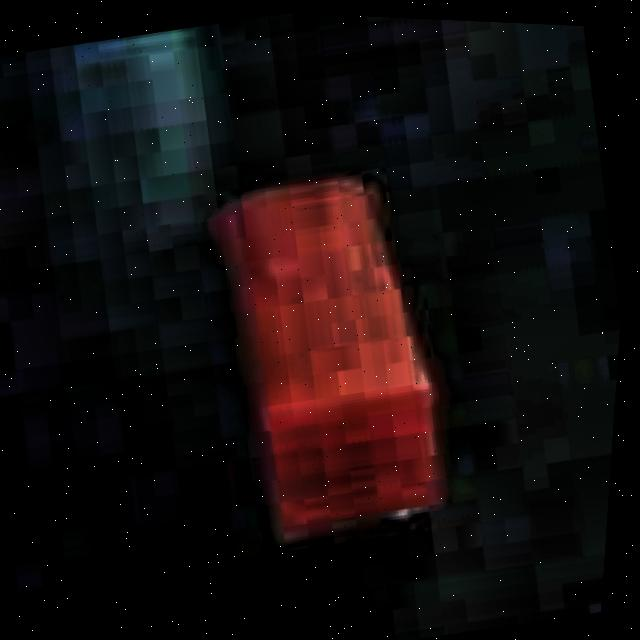bus: (185, 146, 488, 568)
